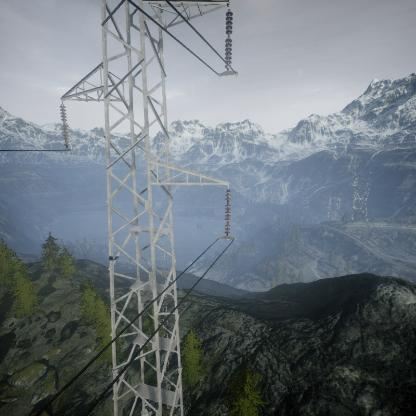insulator: (223, 7, 235, 71), (58, 103, 72, 148), (223, 188, 233, 236)
